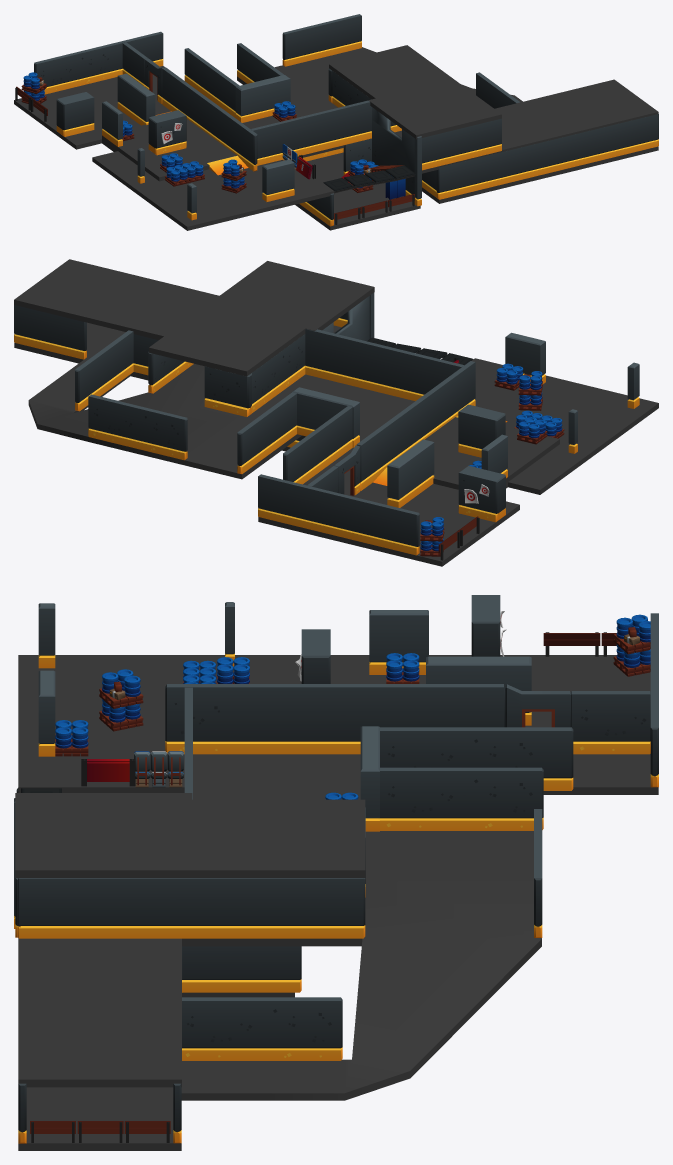
The model's file is Vertigo-v2.fbx.
3 views of the same model, one above another, from view 1: azimuth 30°, elevation 25°; view 2: azimuth 150°, elevation 25°; view 3: azimuth 270°, elevation 25° (orthographic). The views are drawn at different scales.
Parts seen in each view (by area): view 1: Map_Floor, Würfel_1, Wall_6_4, Wall, Wall_9, Wall_1, Wall_2, Würfel, Wall_7, Wall_6_2, Pillar_B_2, Wall_8 (+20 smaller); view 2: Map_Floor, Würfel_1, Wall_9, Wall, Wall_1, Wall_2, Würfel, Wall_8, Wall_4_3, Wall_6, Wall_2_2, Pillar_B_3 (+17 smaller); view 3: Map_Floor, Würfel_1, Wall_1_2, Wall_1, Wall_6, Wall_2_2, Wall_8, Wall_5_2, Wall_10, Pillar_B_3, Pillar_B_4, Pallet_Small_Decorated_B (+15 smaller).
Part boxes in pixels (x1,y1,x2,y2): Map_Floor: (14,47,658,230); Würfel_1: (329,45,501,139); Wall_6_4: (436,114,658,199); Wall: (251,100,401,165); Wall_9: (34,31,163,94); Wall_1: (162,67,257,171); Wall_2: (282,14,361,66); Würfel: (102,119,236,181); Wall_7: (422,118,501,170); Wall_6_2: (371,107,415,198); Pillar_B_2: (235,75,290,122); Wall_8: (184,48,239,117); Map_Floor: (14,259,658,566); Würfel_1: (149,261,374,376); Wall_9: (258,474,419,555); Wall: (305,329,464,401); Wall_1: (356,361,475,490); Wall_2: (88,394,187,460); Würfel: (425,417,559,489); Wall_8: (283,406,352,484); Wall_4_3: (14,305,86,359); Wall_6: (237,392,296,474); Wall_2_2: (75,330,133,411); Pillar_B_3: (387,439,434,507); Map_Floor: (18,655,658,1150); Würfel_1: (15,793,365,877); Wall_1_2: (18,878,365,938); Wall_1: (165,684,505,754); Wall_6: (378,767,543,830); Wall_2_2: (182,997,342,1060); Wall_8: (380,727,573,790); Wall_5_2: (182,946,301,992); Wall_10: (571,691,650,754); Pillar_B_3: (426,656,531,725); Pillar_B_4: (369,610,428,674); Pallet_Small_Decorated_B: (99,669,143,731).
Bounding box in the file's own units: 6099 × 935 × 3900.
Materials: 17 (15 with a texture image).
